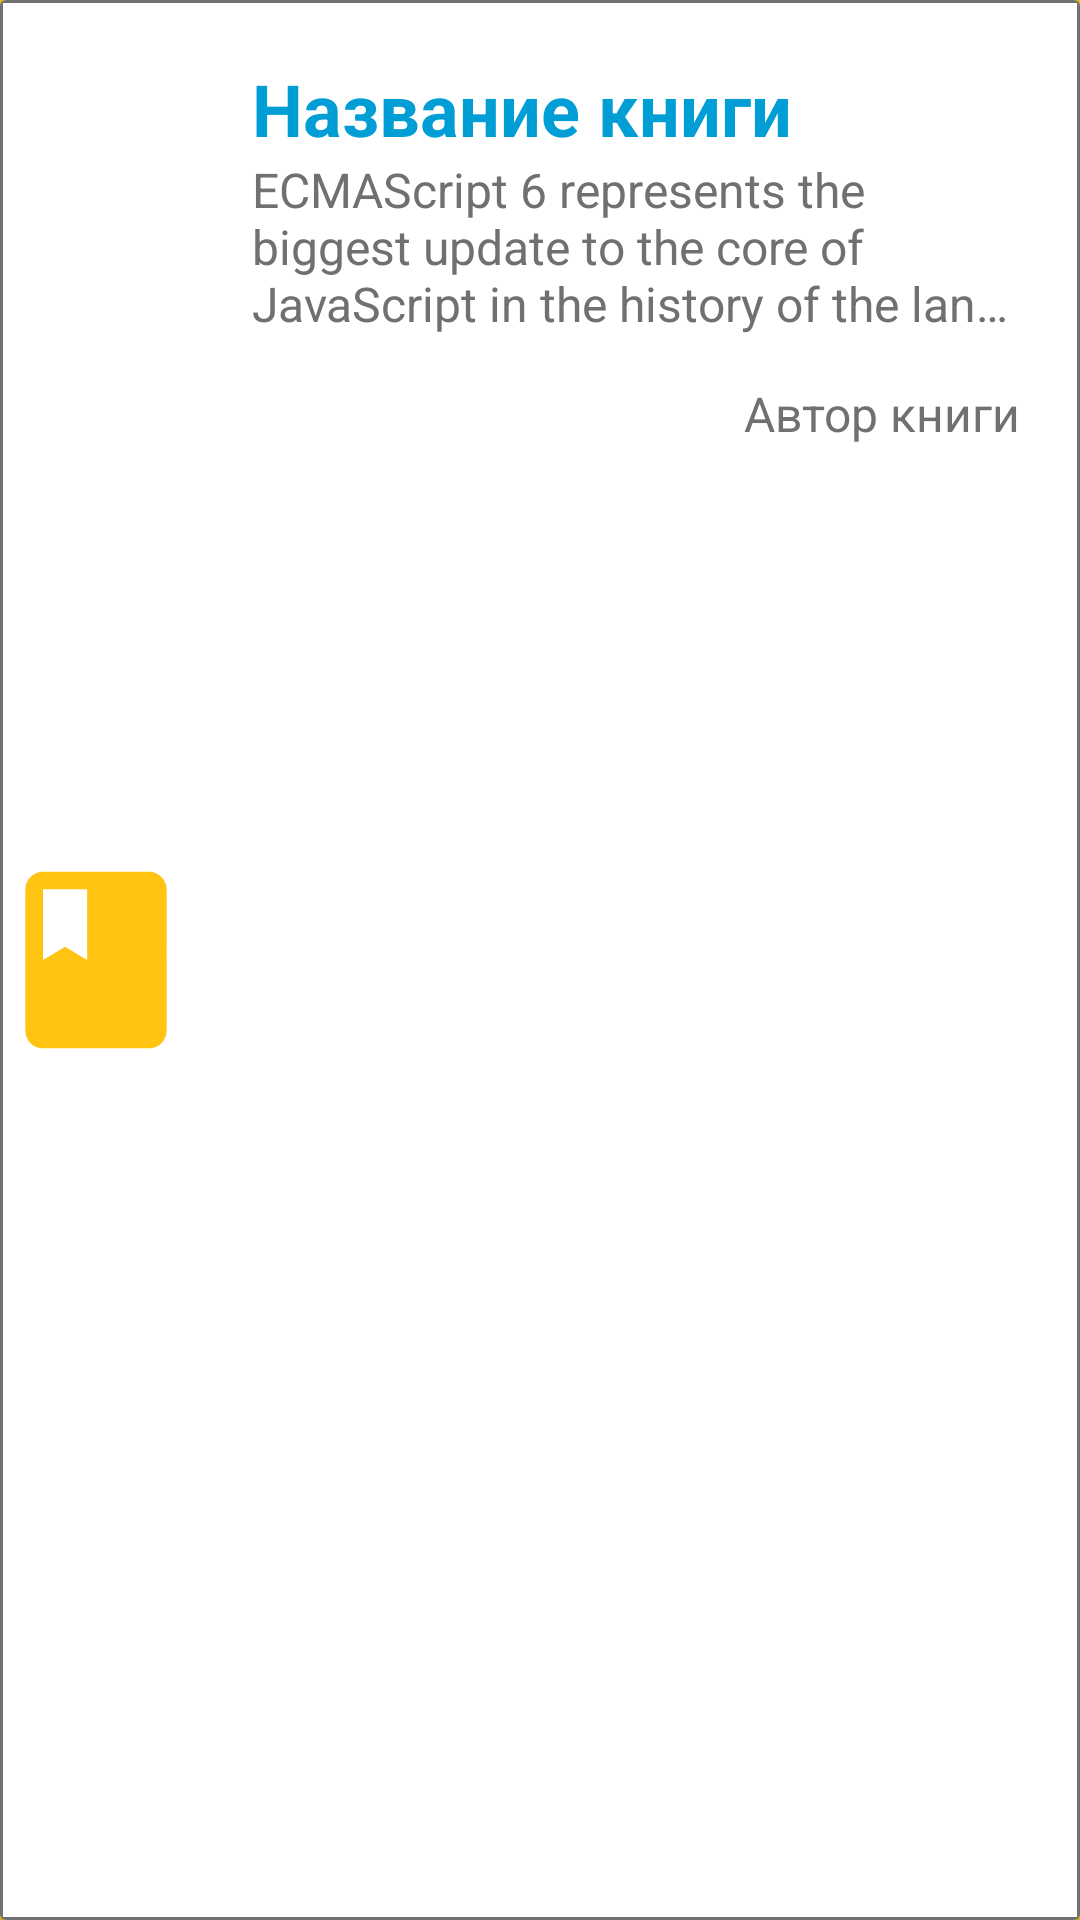

Named icons in this screenshot (1080w x 1920h) and their centers, [x,y]:
book: [96,960]
